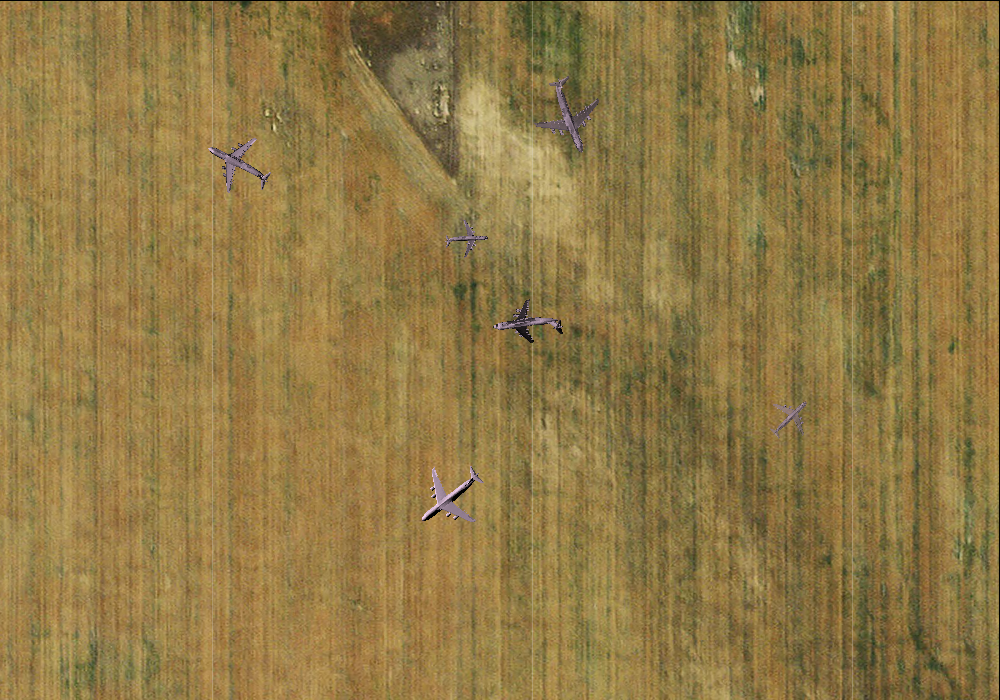plane: (399, 446, 501, 547), (520, 65, 618, 164), (192, 119, 283, 209), (489, 292, 567, 360), (758, 386, 822, 450), (444, 218, 488, 260)
